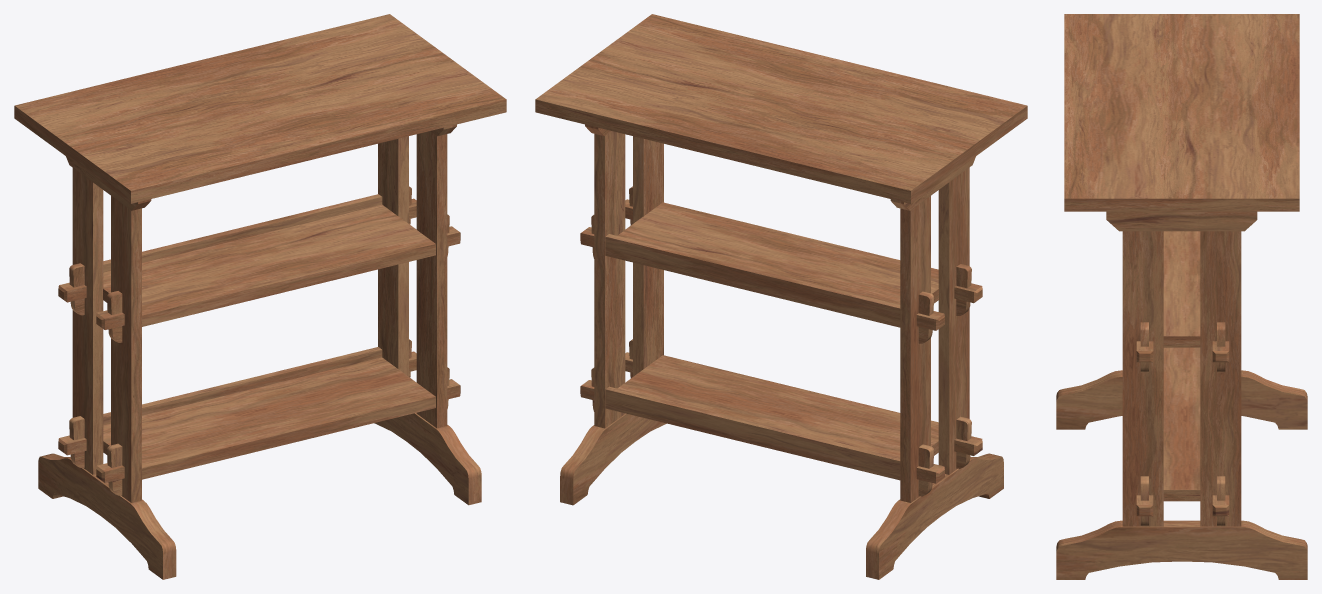
The picture shows the model from 3 angles, left to right: view 1: azimuth 30°, elevation 25°; view 2: azimuth 150°, elevation 25°; view 3: azimuth 270°, elevation 25°; orthographic projection.
Parts seen in each view (by area): view 1: Shelf; view 2: Shelf; view 3: Shelf.
Boxes of the visible parts, bbox=[...] form: Shelf: bbox=[14, 14, 506, 579]; Shelf: bbox=[535, 14, 1027, 579]; Shelf: bbox=[1056, 14, 1307, 579].
Size of the model in its own units: 0.8257 by 0.8254 by 0.4758.
1 material, 1 textured.
